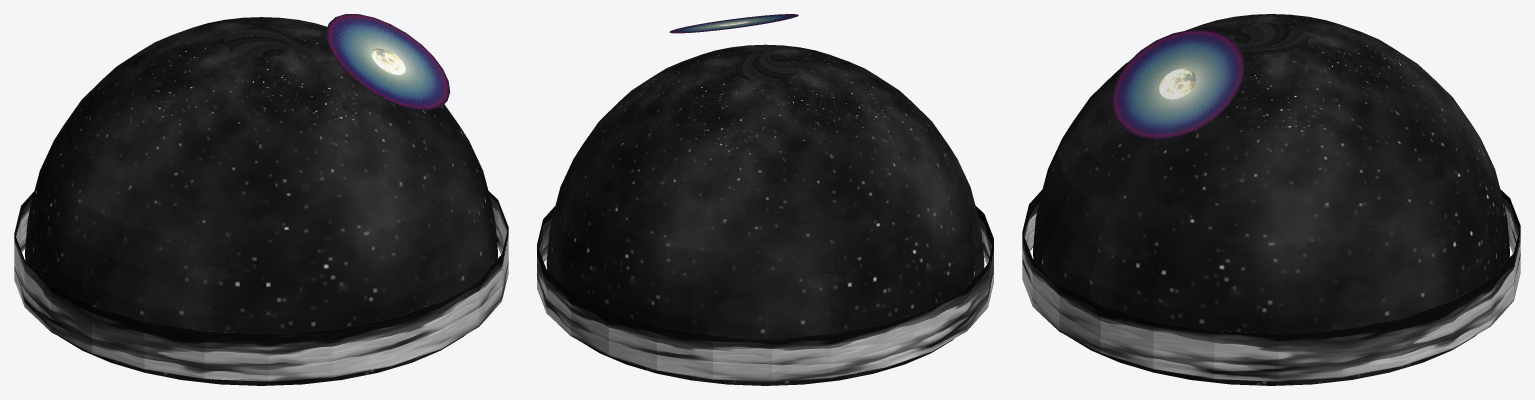
The model's file is sky.dae.
3 views of the same model, side by side, from view 1: azimuth 30°, elevation 25°; view 2: azimuth 150°, elevation 25°; view 3: azimuth 270°, elevation 25° (orthographic). The views are drawn at different scales.
Visible parts, largest first — view 1: m0, m3, m2, m1; view 2: m0, m3, m2; view 3: m0, m3, m2, m1.
Boxes of the visible parts, left/top/right/bottom form: m0: left=24, top=17, right=498, bottom=385; m3: left=14, top=191, right=508, bottom=381; m2: left=326, top=14, right=450, bottom=110; m1: left=371, top=48, right=405, bottom=74; m0: left=546, top=44, right=984, bottom=385; m3: left=537, top=205, right=993, bottom=381; m2: left=669, top=14, right=798, bottom=33; m0: left=1033, top=14, right=1509, bottom=385; m3: left=1022, top=189, right=1520, bottom=381; m2: left=1111, top=29, right=1244, bottom=139; m1: left=1159, top=68, right=1196, bottom=99.
Size of the model in its own units: 187843 by 113922 by 187843.
4 materials, 4 textured.
